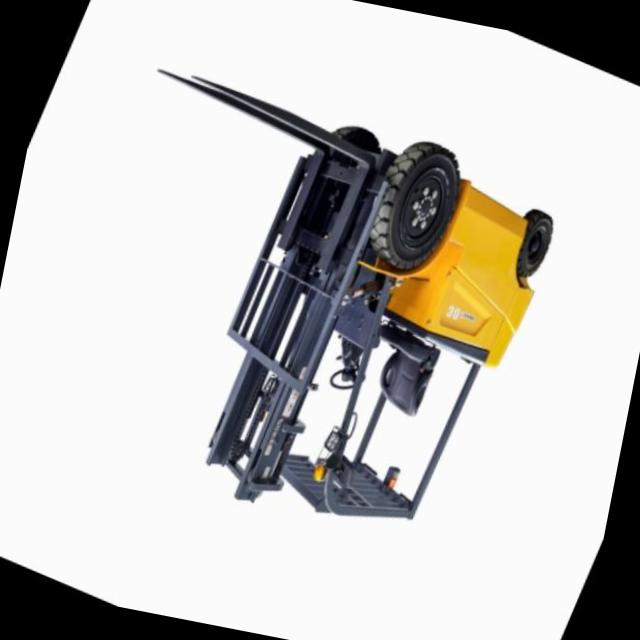forklift: (148, 50, 595, 575)
